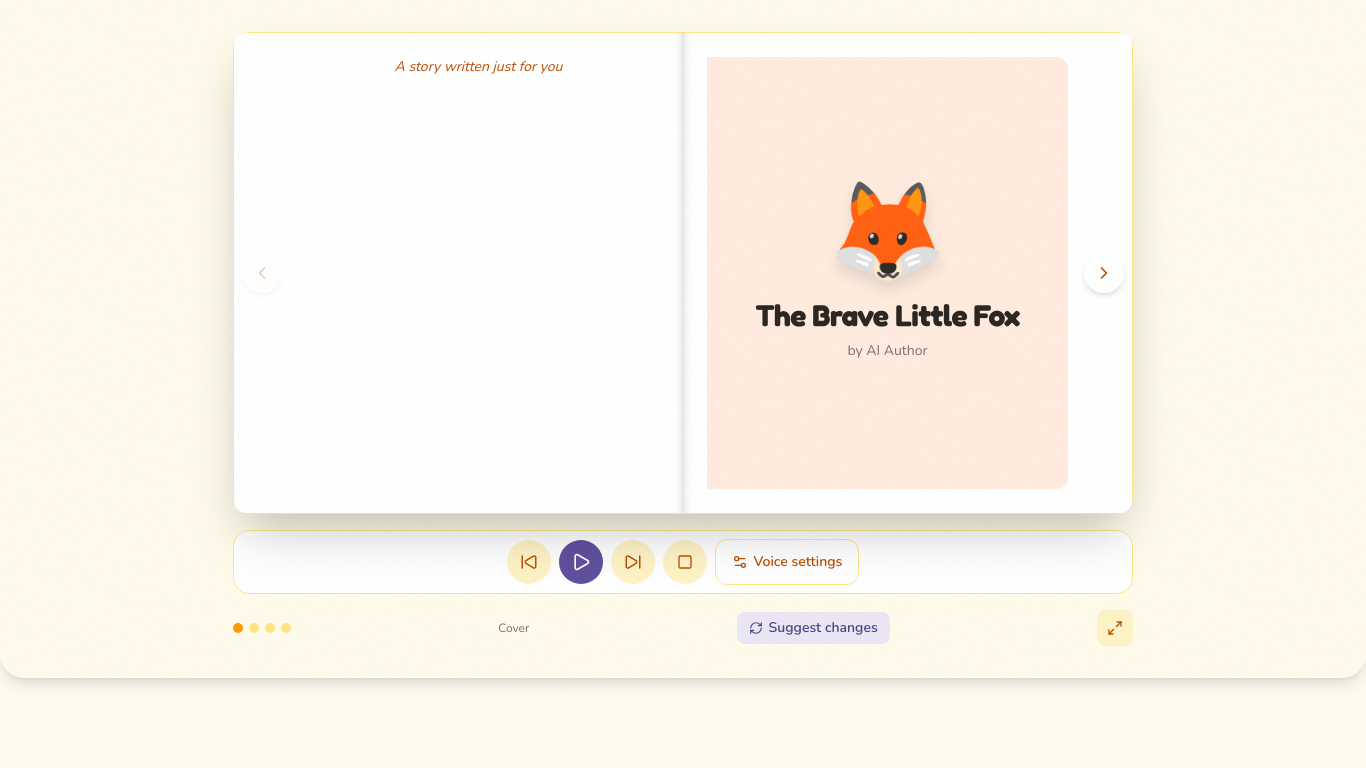
it: BookSpread — narration › turns the page itself when a page finishes and auto-advance is on
The width and height of the screenshot is (1366, 768).
Click the button named "Next spread".
click(1104, 273)  # box x1=1084 y1=253 x2=1124 y2=293
Wait 254 ms
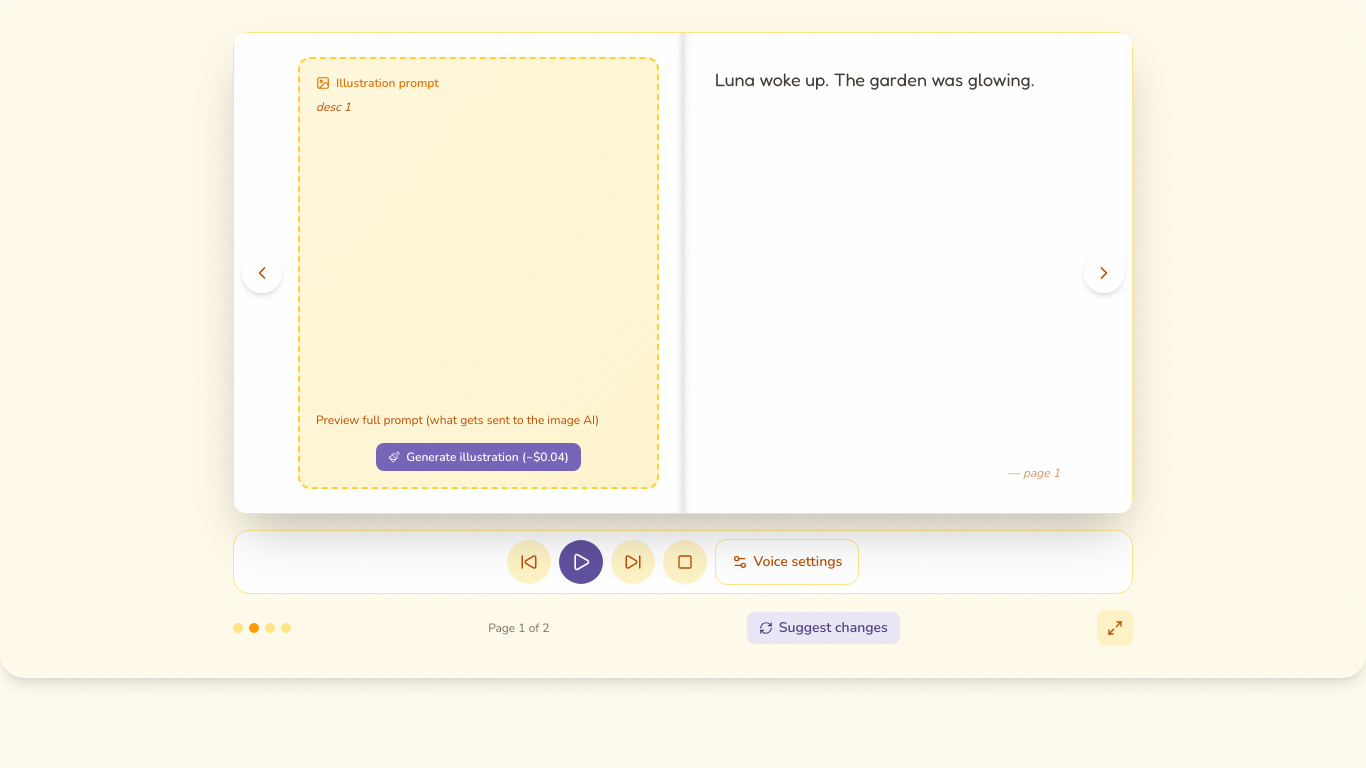
expect the text with test id "spread-position" reads "Page 1 of 2": met, box x1=488 y1=620 x2=550 y2=636
Click the button named "Play".
click(581, 562)  # box x1=559 y1=540 x2=603 y2=584
Wait 854 ms
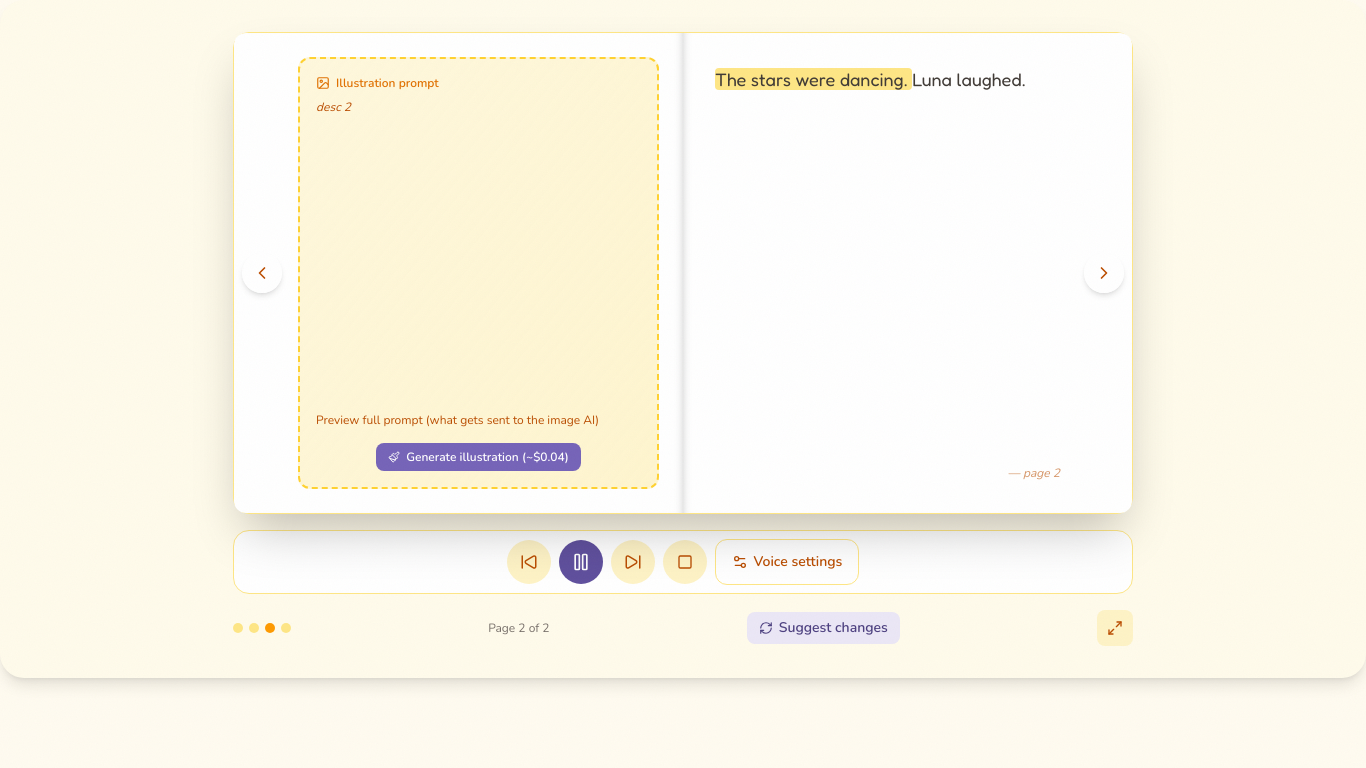
expect the text with test id "spread-position" reads "Page 2 of 2": met, box x1=488 y1=620 x2=550 y2=636
